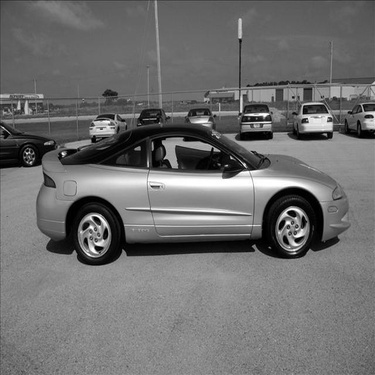car: (28, 116, 353, 269), (1, 118, 57, 169), (294, 100, 335, 138), (238, 101, 274, 143), (87, 114, 130, 147), (344, 95, 372, 144), (184, 105, 218, 133), (136, 104, 170, 132)
